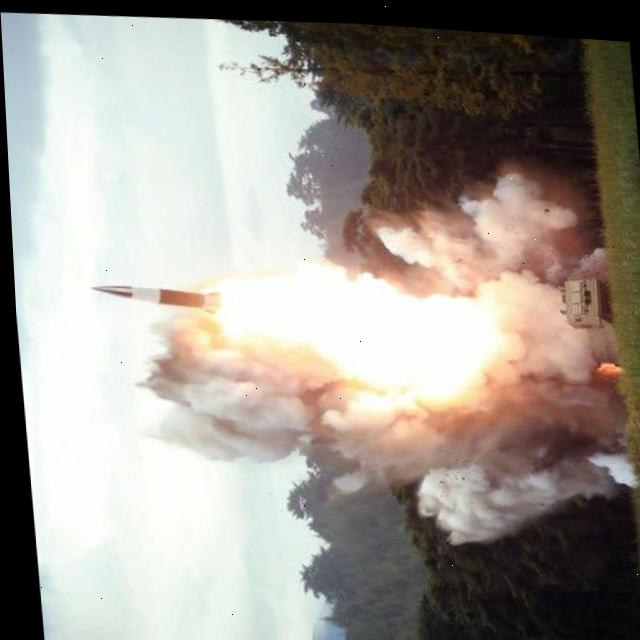missile: (87, 267, 216, 317)
